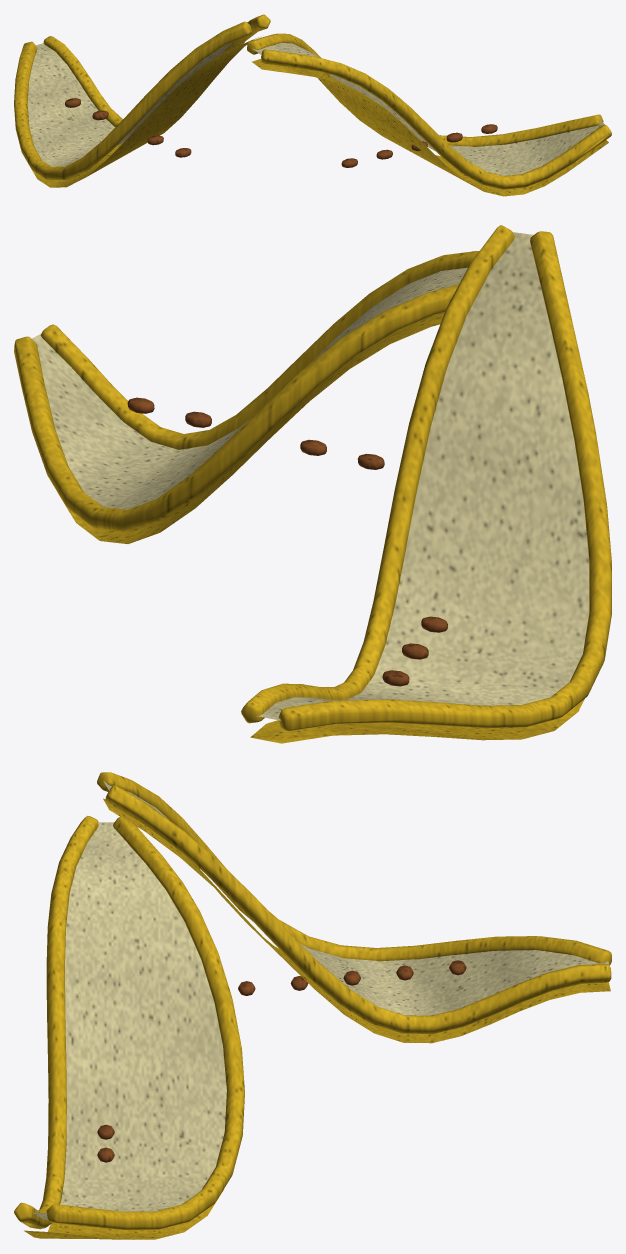
The model's file is food-06-residue.glb.
3 views of the same model, one above another, from view 1: azimuth 30°, elevation 25°; view 2: azimuth 150°, elevation 25°; view 3: azimuth 270°, elevation 25° (orthographic). The views are drawn at different scales.
Visible parts, largest first — view 1: Food; view 2: Food; view 3: Food.
Part boxes in pixels (<box>): Food: <box>14,14,611,196</box>; Food: <box>14,225,611,743</box>; Food: <box>14,772,611,1239</box>.
Bounding box in the file's own units: 0.5843 × 0.2689 × 0.4966.
1 material, 1 textured.
